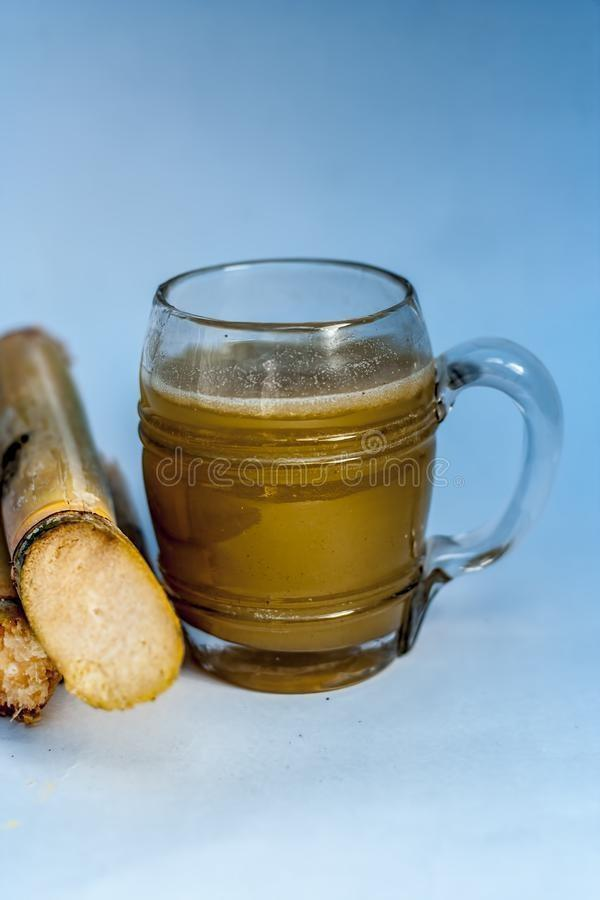glass-mug: (132, 255, 564, 695)
